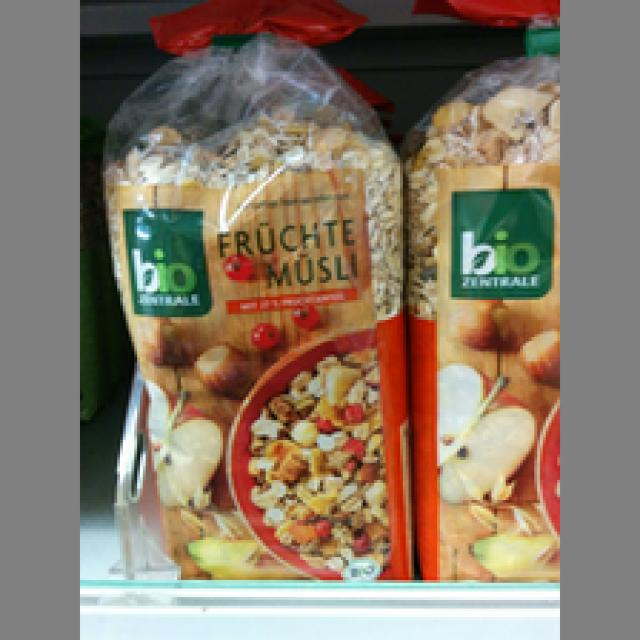groceries: (97, 34, 406, 586), (406, 37, 568, 583)
